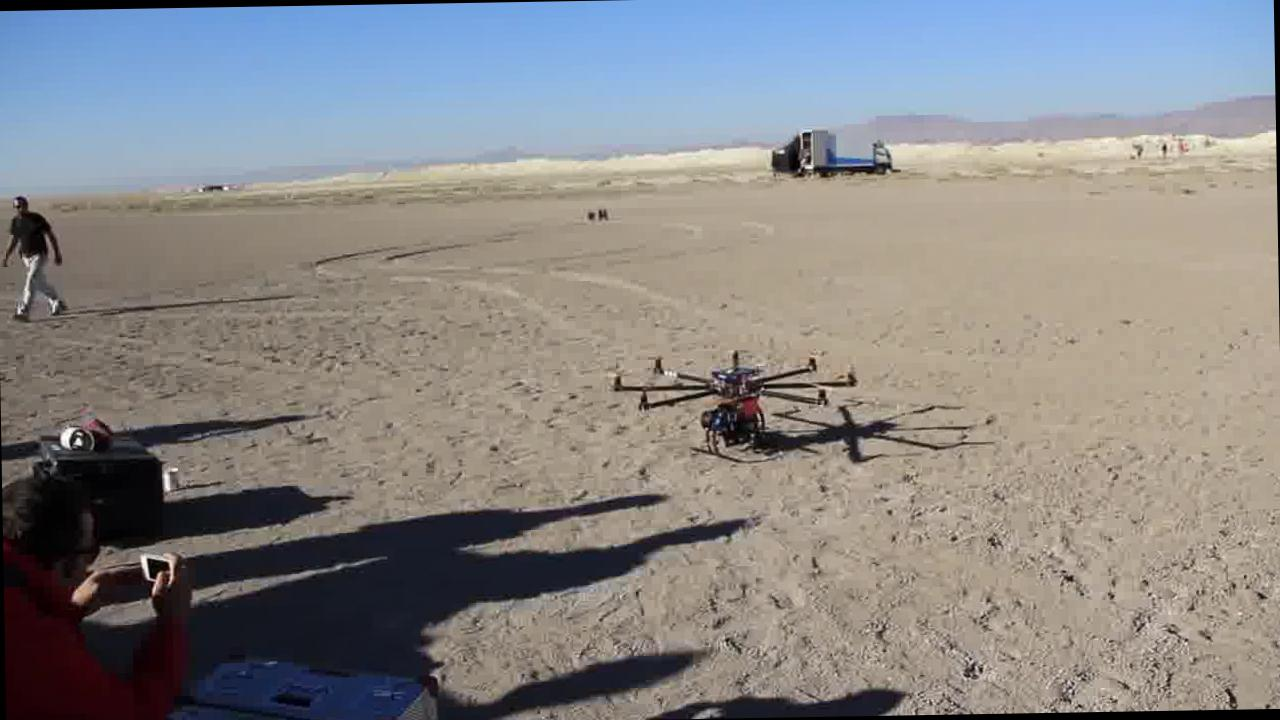drone: (602, 341, 864, 460)
